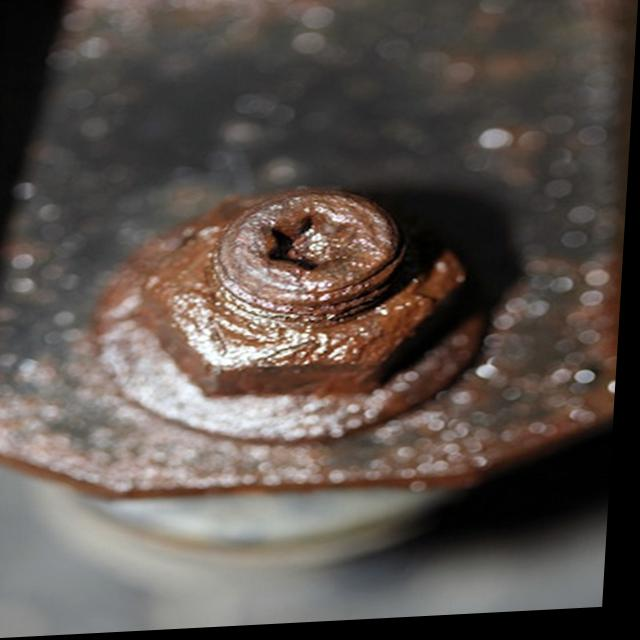Rusty bolt: (135, 182, 474, 408)
